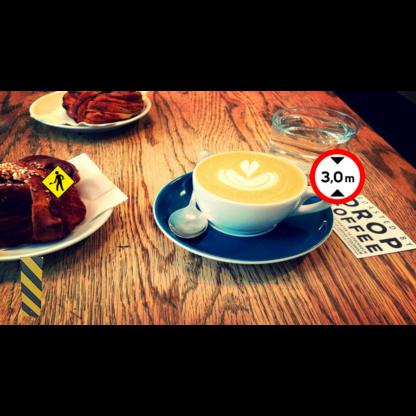A-24: (41, 165, 75, 199)
O-MP: (20, 257, 43, 316)
R-15: (309, 149, 365, 204)
